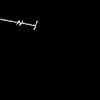treble_crochet: (1, 19, 36, 28)
